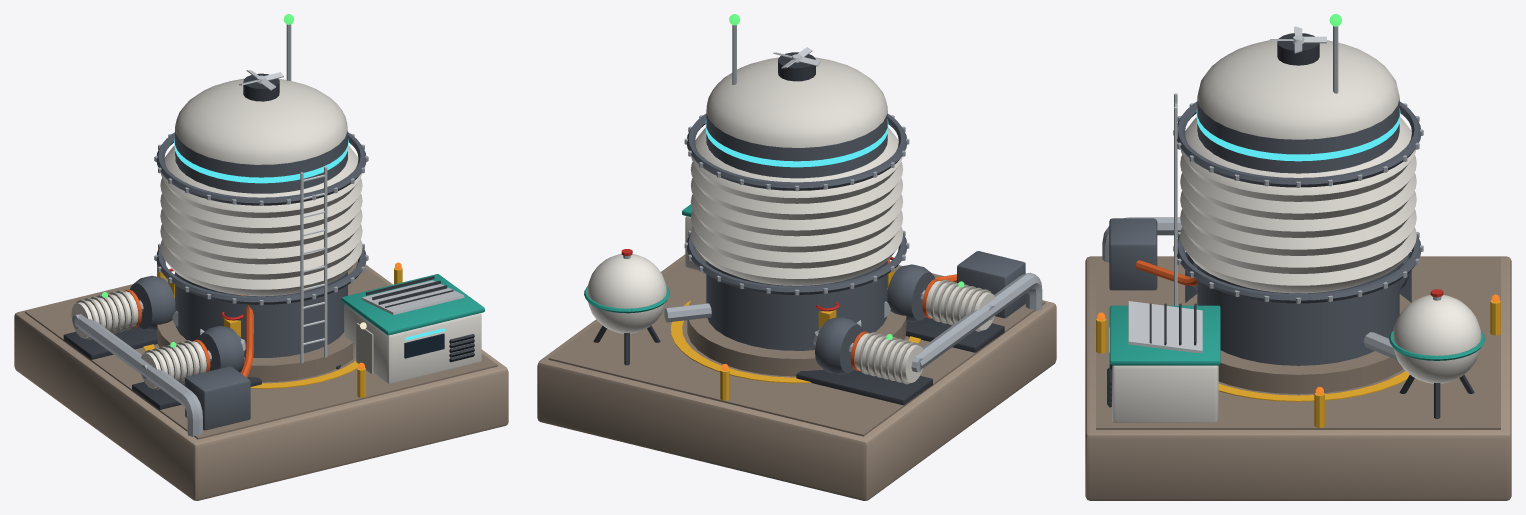
The model's file is pump_station.glb.
The picture shows the model from 3 angles, left to right: view 1: azimuth 30°, elevation 25°; view 2: azimuth 150°, elevation 25°; view 3: azimuth 270°, elevation 25°; orthographic projection. The views are drawn at different scales.
Visible parts, largest first — view 1: pump_station; view 2: pump_station; view 3: pump_station, spin_flowmeter.001.
Boxes of the visible parts, box(x1,y1,x2,y2) form: pump_station: box(14, 14, 508, 500); pump_station: box(537, 14, 1056, 500); pump_station: box(1085, 14, 1511, 500); spin_flowmeter.001: box(1270, 26, 1326, 53).
Size of the model in its own units: 4 by 4.38 by 4.
